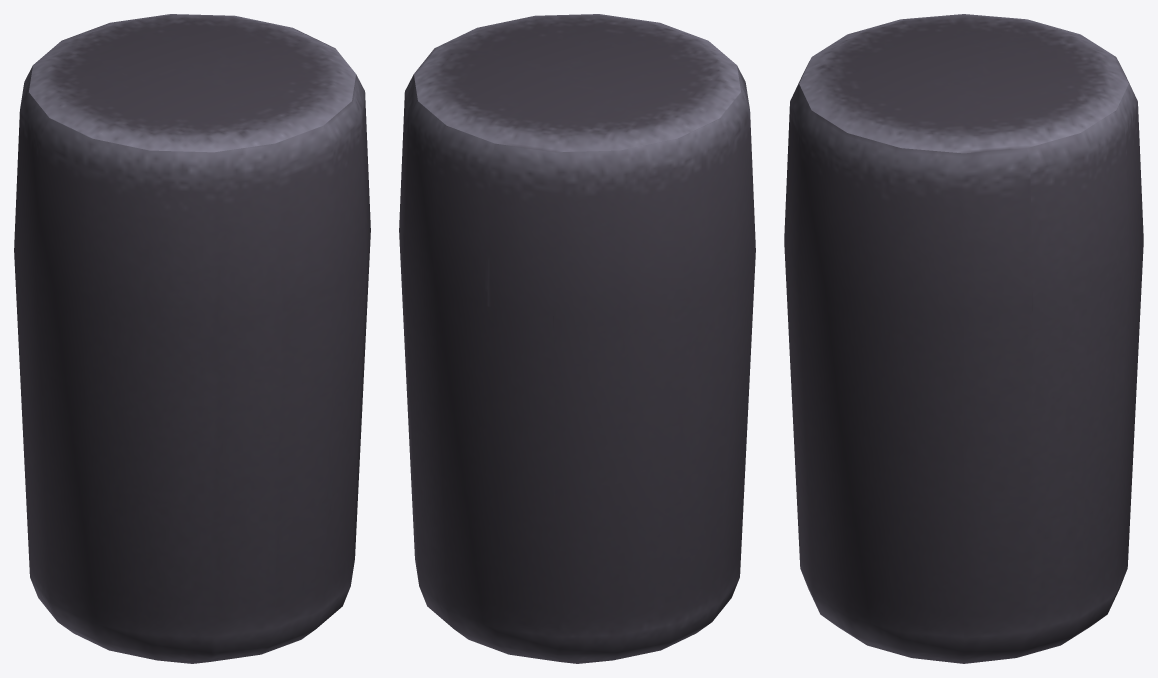
The model's file is thigh_r.glb.
The picture shows the model from 3 angles, left to right: view 1: azimuth 30°, elevation 25°; view 2: azimuth 150°, elevation 25°; view 3: azimuth 270°, elevation 25°; orthographic projection.
Visible parts, largest first — view 1: thigh_r; view 2: thigh_r; view 3: thigh_r.
Part boxes in pixels (bbox=[...]): thigh_r: bbox=[14, 14, 370, 663]; thigh_r: bbox=[399, 14, 755, 663]; thigh_r: bbox=[784, 14, 1143, 663].
Size of the model in its own units: 0.104 by 0.1875 by 0.104.
Materials: 1 (1 with a texture image).
